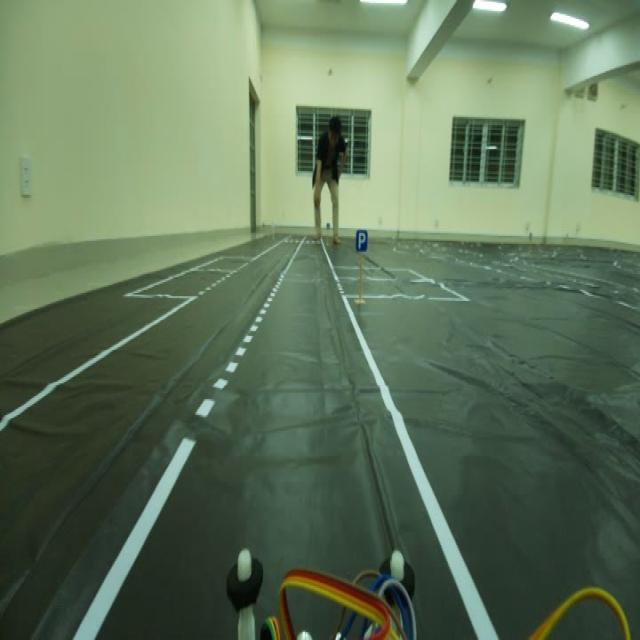parking: (354, 222, 371, 255)
